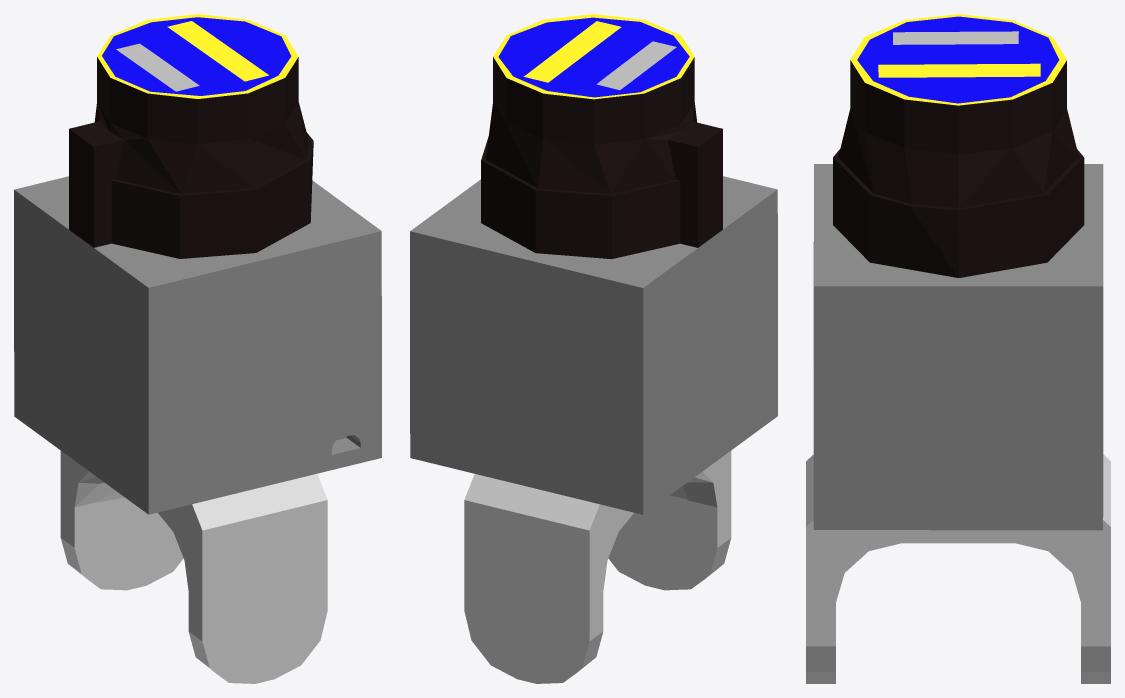
The model's file is hokuyo_urg_04lx.dae.
3 views of the same model, side by side, from view 1: azimuth 30°, elevation 25°; view 2: azimuth 150°, elevation 25°; view 3: azimuth 270°, elevation 25° (orthographic). The views are drawn at different scales.
Visible parts, largest first — view 1: Zen_000; view 2: Zen_000; view 3: Zen_000.
Boxes of the visible parts, <box> form: Zen_000: <box>14,14,381,683</box>; Zen_000: <box>410,14,777,683</box>; Zen_000: <box>806,14,1110,683</box>.
Size of the model in its own units: 0.0484 by 0.051 by 0.1135.
